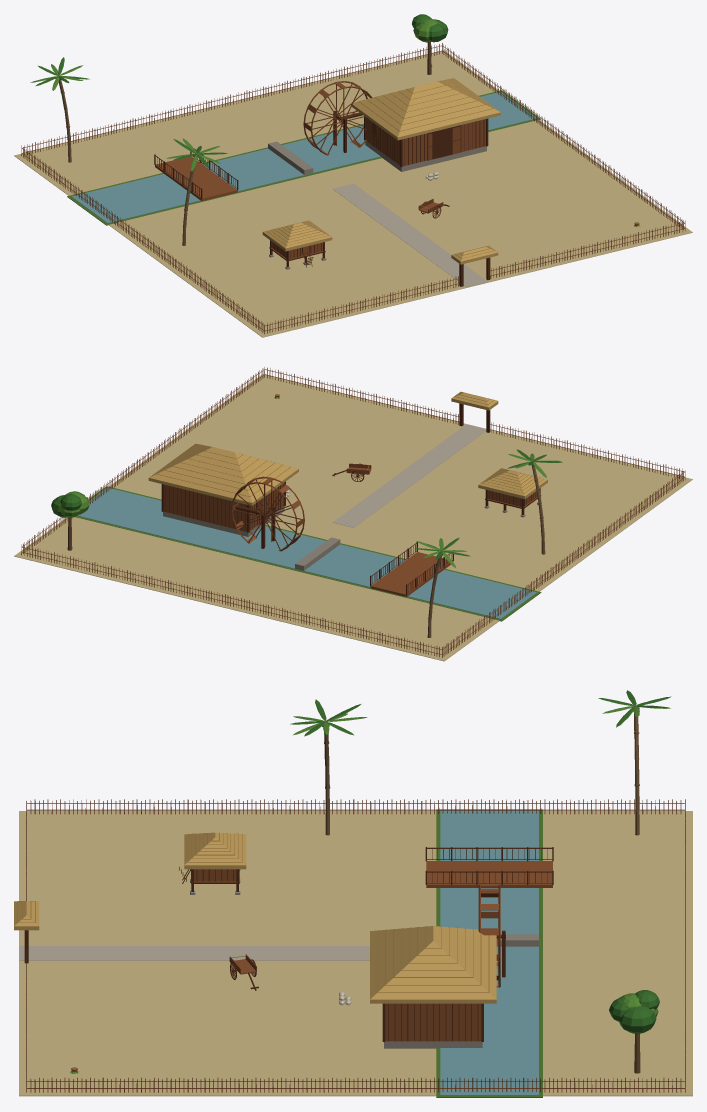
The model's file is power_plant.glb.
3 renders of one model, top to bottom at view 1: azimuth 30°, elevation 25°; view 2: azimuth 150°, elevation 25°; view 3: azimuth 270°, elevation 25°, orthographic. The views are drawn at different scales.
Visible parts, largest first — view 1: body; view 2: body; view 3: body.
Boxes of the visible parts, x1,y1,x2,y2 form: body: (14, 14, 692, 337); body: (14, 367, 692, 661); body: (14, 690, 692, 1097).
Size of the model in its own units: 48.48 by 10.81 by 48.25.
